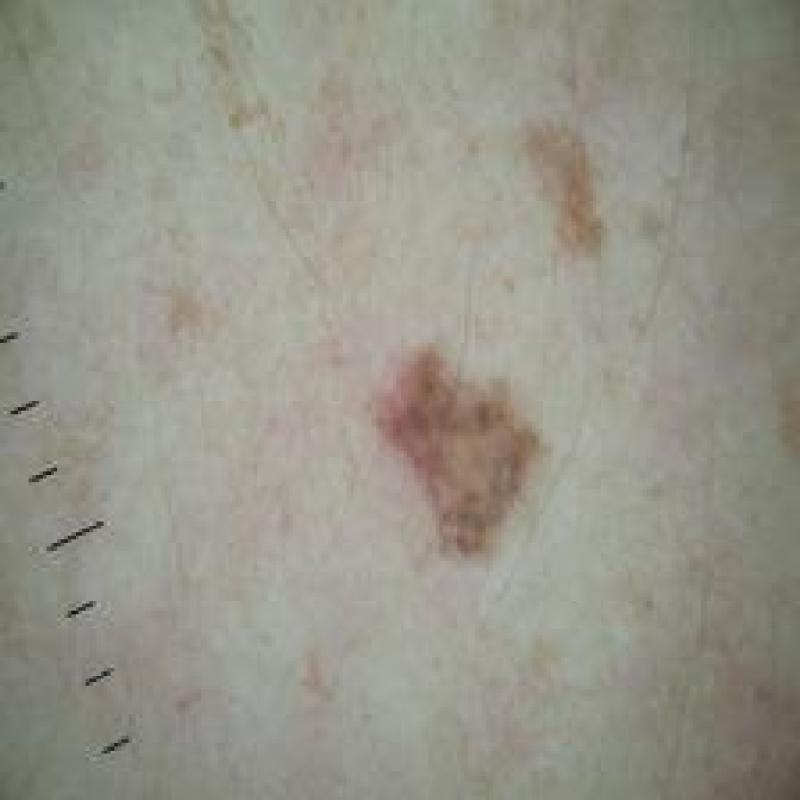malignant: (354, 341, 559, 577)
